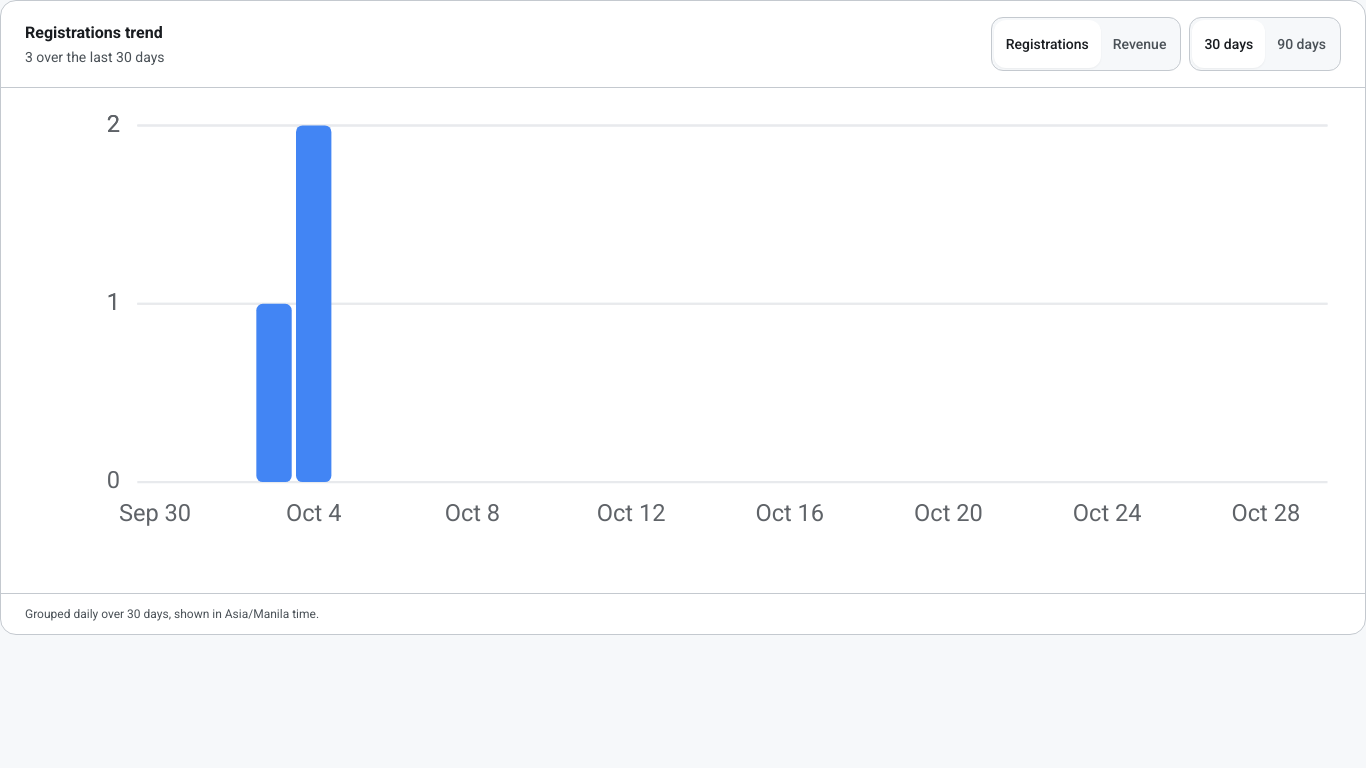
Test: Home states and interactions › switches between Registrations and Revenue series and changes time ranges in TrendPanel
This screenshot has width=1366, height=768.
Expected: the heading "Registrations trend" is shown, [25, 21, 164, 45]
Expected: the text "3 over the last 30 days" is shown, [25, 47, 164, 67]
# Click Revenue series radio
Click the radio button labelled "Revenue".
click(1140, 44)  # box [1101, 20, 1178, 68]
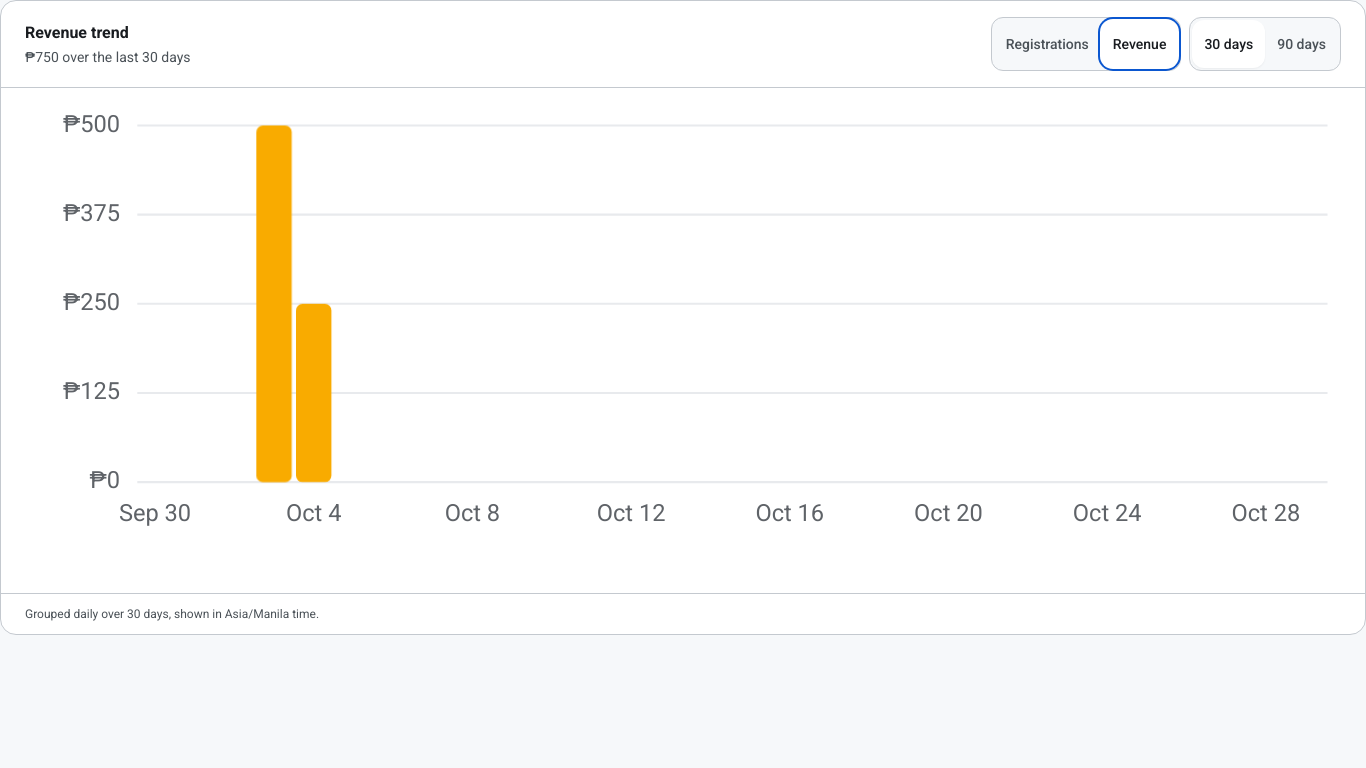
Now the heading "Revenue trend" is shown, box [25, 23, 129, 42]
Now the text "₱750 over the last 30 days" is shown, box [25, 47, 190, 67]
# Click 90 days range radio
Click the radio button labelled "90 days".
click(1302, 44)  # box [1265, 20, 1338, 68]
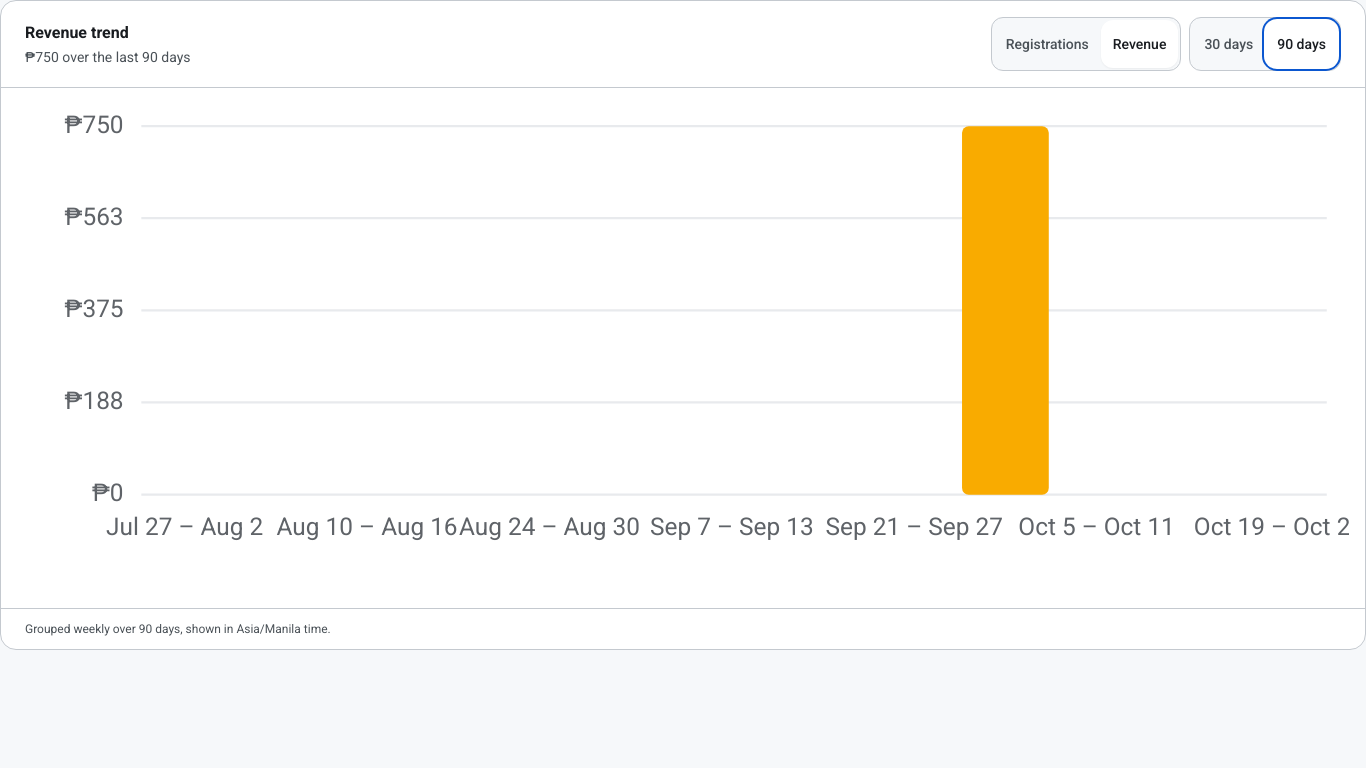
Now the text "₱750 over the last 90 days" is shown, box [25, 47, 190, 67]
